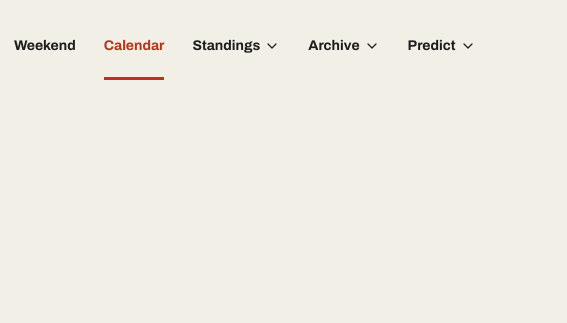
Test: main navigation › opens the archive dropdown by click and closes it with Escape
This screenshot has width=567, height=323.
Click the button "Archive" at coordinates (344, 46), box [294,12,394,80]
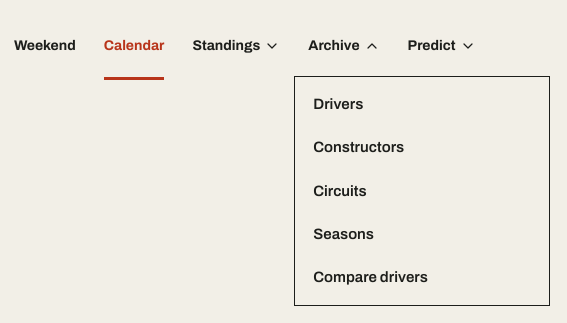
Expected: the button "Archive" is expanded
Expected: the link "Drivers" is shown, [313,96,363,112]
Expected: the link "Constructors" is shown, [313,139,404,155]
Press Escape in the button "Archive", box [294,12,394,80]
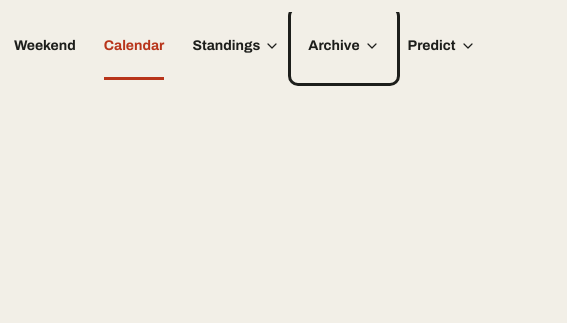
Expected: the button "Archive" is collapsed, [294,12,394,80]
